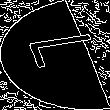L_E: (11, 34, 99, 76)
